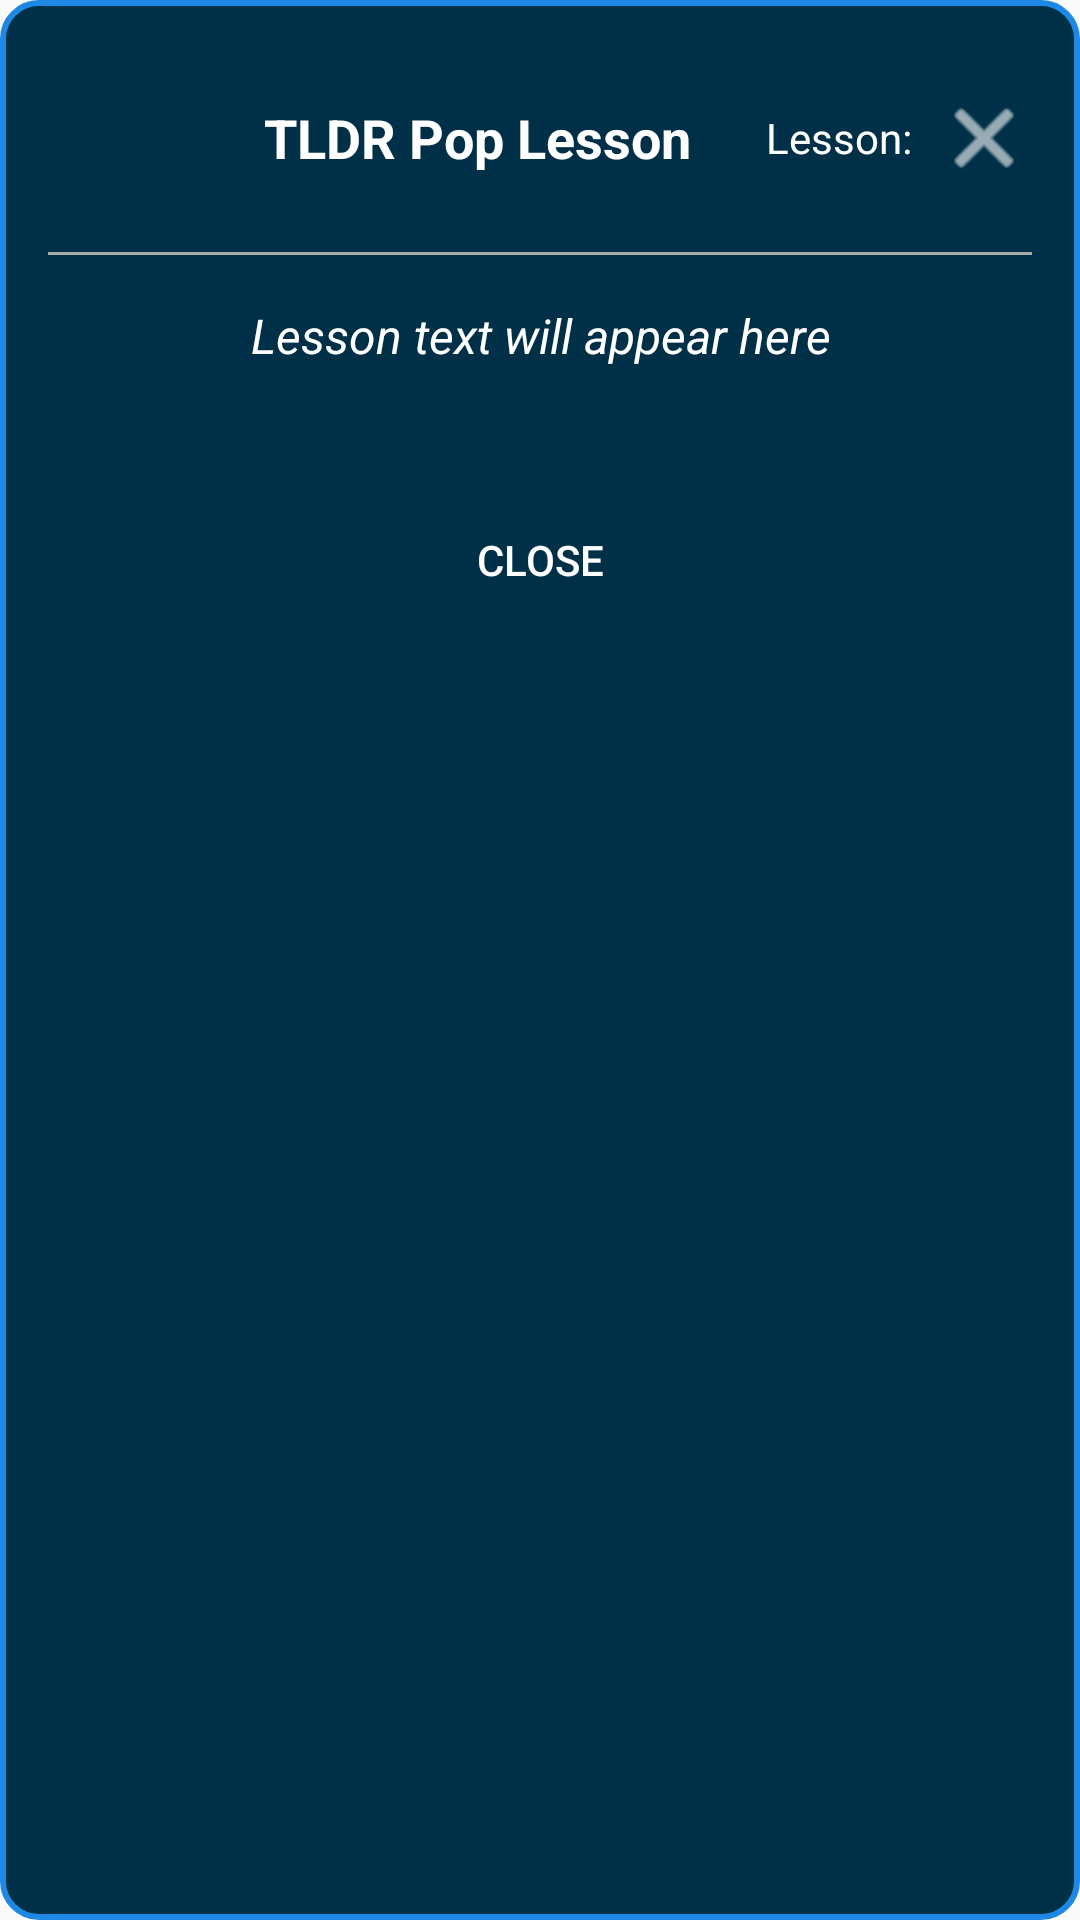

Icon bounding boxes for this 1080 × 1920 phone screenshot, format box(x1, y1, x2, y2):
close clear cancel: box(954, 108, 1014, 168)
